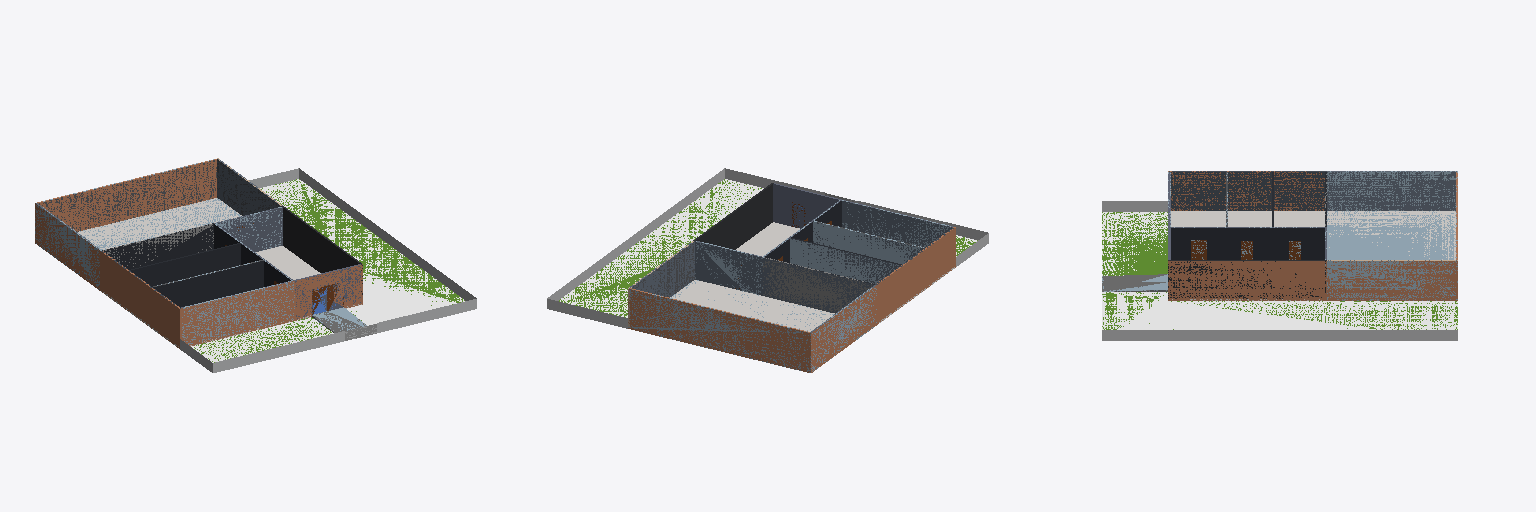
File: museo.obj
The picture shows the model from 3 angles: view 1: azimuth 30°, elevation 25°; view 2: azimuth 150°, elevation 25°; view 3: azimuth 270°, elevation 25°; orthographic projection.
Parts seen in each view (by area): view 1: Mesh1 Model; view 2: Mesh1 Model; view 3: Mesh1 Model.
Part boxes in pixels (x1,y1,x2,y2): Mesh1 Model: (35,158,476,372); Mesh1 Model: (547,168,988,372); Mesh1 Model: (1102,171,1457,340).
Bounding box in the file's own units: 28.82 × 4.2 × 33.64.